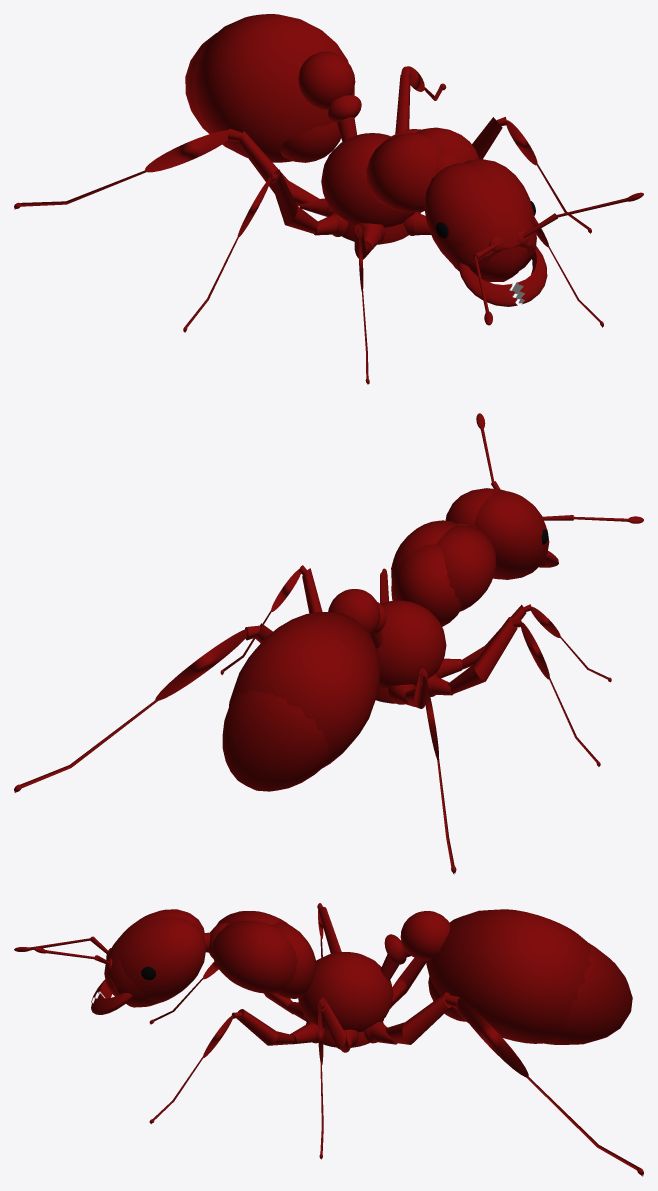
File: Ant.fbx
The picture shows the model from 3 angles, top to bottom: view 1: azimuth 30°, elevation 25°; view 2: azimuth 150°, elevation 25°; view 3: azimuth 270°, elevation 25°; orthographic projection. The views are drawn at different scales.
Parts seen in each view (by area): view 1: Group3, Group26, Group21, Group15, Group6, Group10, Group49, Group47, Group63, Group30, Group16, Group29 (+5 smaller); view 2: Group3, Group4, Group26, Group21, Group14, Group15, Group63, Group43, Group6, Group16; view 3: Group3, Group26, Group21, Group16, Group4, Group6, Group14, Group43, Group41, Group71, Group47, Group57 (+5 smaller).
Boxes of the visible parts, x1=… form: Group3: x1=192, y1=14, x2=354, y2=162; Group26: x1=424, y1=159, x2=536, y2=282; Group21: x1=321, y1=133, x2=414, y2=227; Group15: x1=366, y1=133, x2=439, y2=212; Group6: x1=298, y1=51, x2=355, y2=109; Group10: x1=280, y1=123, x2=340, y2=162; Group49: x1=145, y1=130, x2=228, y2=172; Group47: x1=238, y1=131, x2=319, y2=206; Group63: x1=271, y1=169, x2=318, y2=234; Group30: x1=458, y1=263, x2=517, y2=306; Group16: x1=416, y1=127, x2=478, y2=163; Group29: x1=512, y1=246, x2=547, y2=304; Group3: x1=229, y1=612, x2=379, y2=768; Group4: x1=222, y1=690, x2=329, y2=791; Group26: x1=445, y1=488, x2=549, y2=579; Group21: x1=376, y1=600, x2=446, y2=688; Group14: x1=391, y1=543, x2=461, y2=626; Group15: x1=437, y1=525, x2=496, y2=611; Group63: x1=448, y1=617, x2=517, y2=694; Group43: x1=155, y1=629, x2=247, y2=700; Group6: x1=328, y1=589, x2=380, y2=635; Group16: x1=391, y1=520, x2=459, y2=583; Group3: x1=426, y1=909, x2=590, y2=1043; Group26: x1=104, y1=909, x2=205, y2=1007; Group21: x1=298, y1=952, x2=393, y2=1032; Group16: x1=212, y1=920, x2=298, y2=993; Group4: x1=544, y1=943, x2=632, y2=1044; Group6: x1=400, y1=911, x2=450, y2=960; Group14: x1=273, y1=922, x2=316, y2=998; Group43: x1=457, y1=998, x2=528, y2=1077; Group41: x1=385, y1=992, x2=450, y2=1044; Group71: x1=236, y1=1009, x2=294, y2=1045; Group47: x1=391, y1=957, x2=426, y2=1005; Group57: x1=319, y1=998, x2=348, y2=1051.
Bounding box in the file's own units: 379 × 152 × 524.
